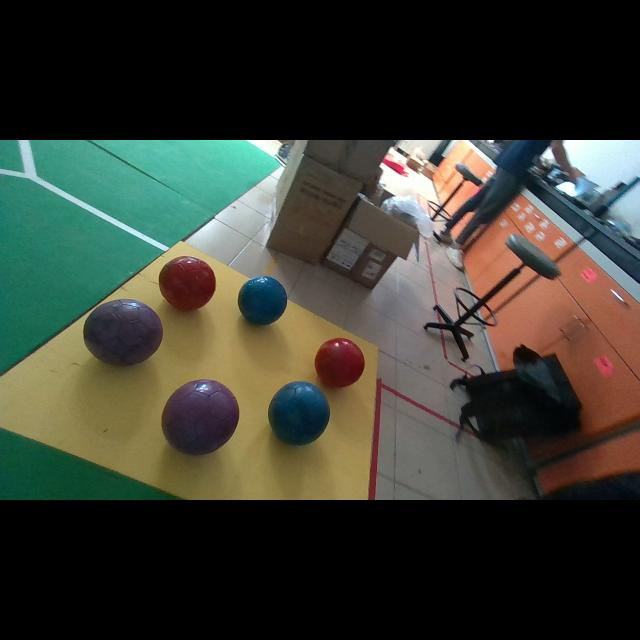B: (269, 381, 330, 445), (238, 276, 288, 325)
P: (161, 380, 239, 454), (84, 299, 162, 364)
R: (160, 256, 216, 310), (315, 338, 365, 387)
